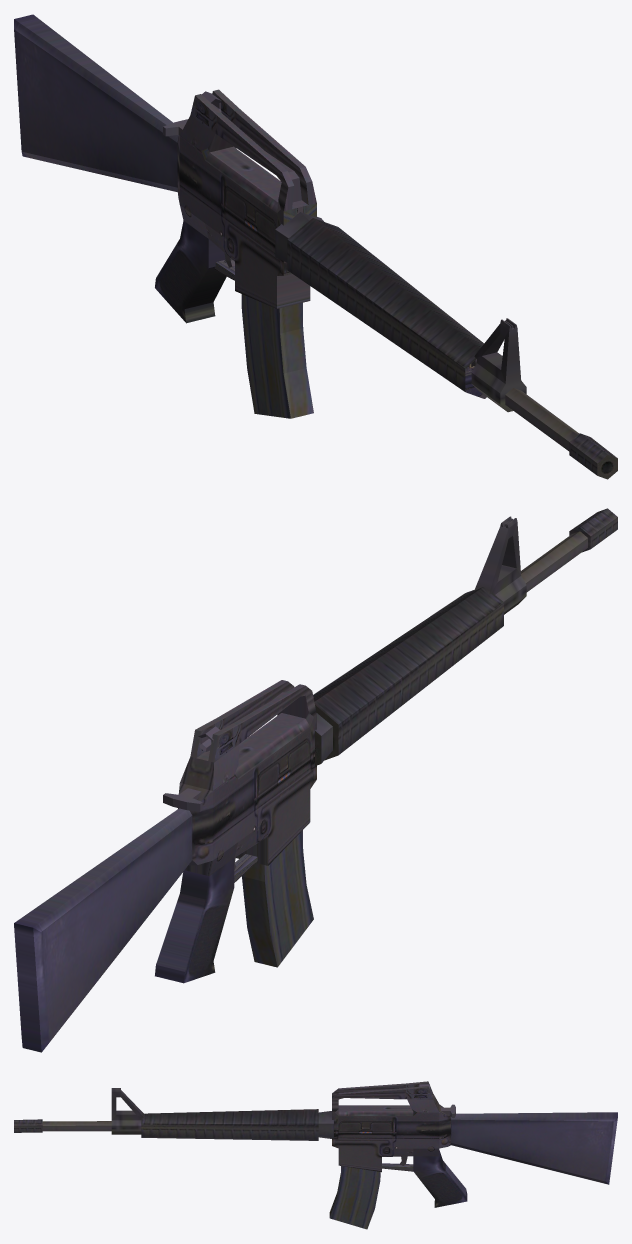
The picture shows the model from 3 angles, top to bottom: view 1: azimuth 30°, elevation 25°; view 2: azimuth 150°, elevation 25°; view 3: azimuth 270°, elevation 25°; orthographic projection. The views are drawn at different scales.
Parts seen in each view (by area): view 1: M16, Mag; view 2: M16, Mag; view 3: M16, Mag.
Boxes of the visible parts, box(x1,y1,x2,y2) form: M16: box(14, 14, 617, 479); Mag: box(241, 294, 313, 418); M16: box(14, 508, 617, 1052); Mag: box(242, 830, 313, 967); M16: box(14, 1081, 617, 1207); Mag: box(329, 1166, 380, 1229).
Size of the model in its own units: 25.05 by 129 by 496.
1 material, 1 textured.
